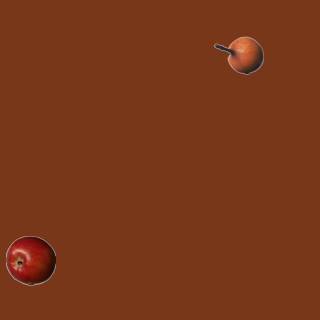Apple Braeburn: (5, 235, 55, 285)
Granadilla: (213, 30, 263, 80)
